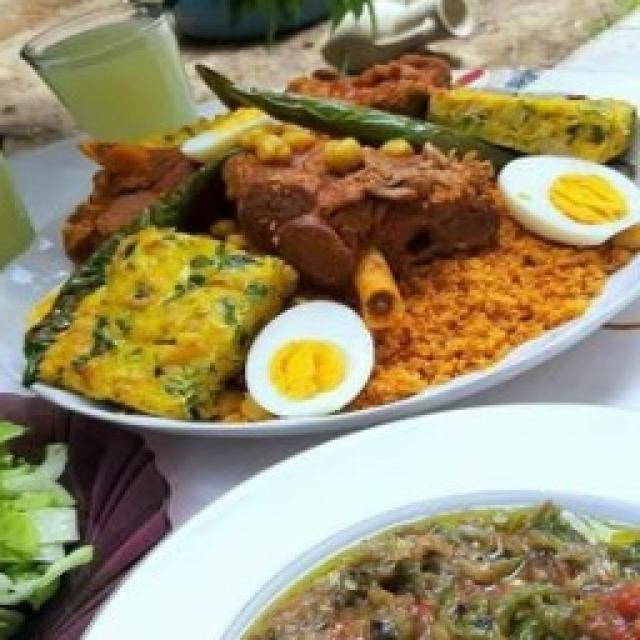Couscous: (198, 60, 640, 415)
Salade mechweya: (240, 502, 640, 640)
